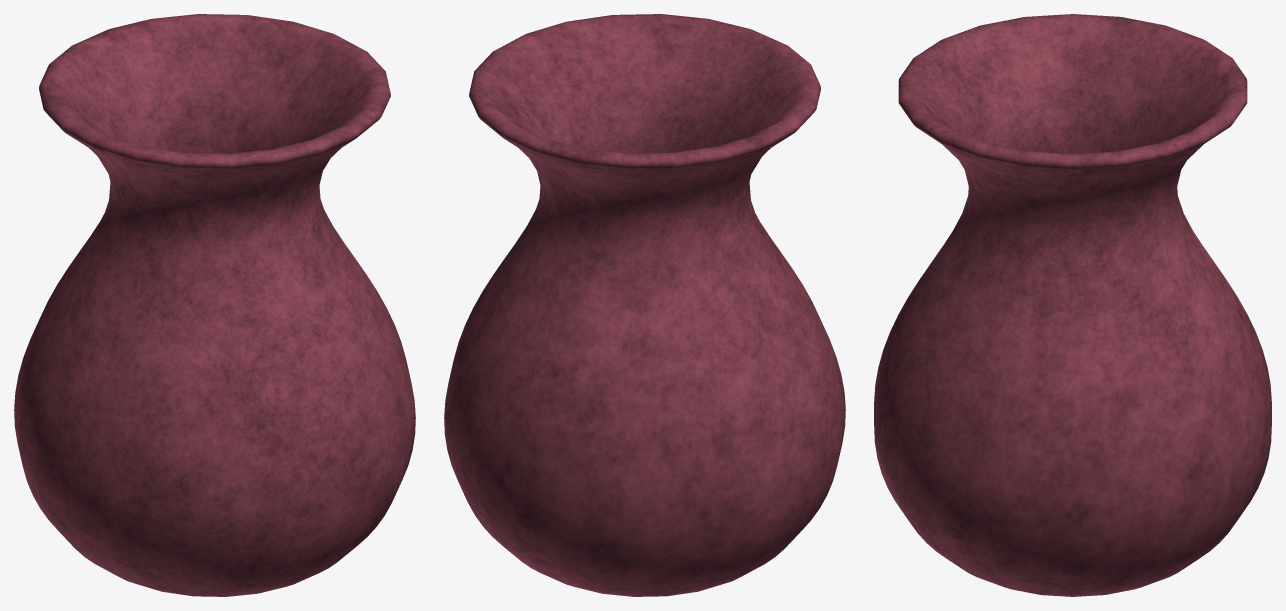
Rendered from Vase-1-red.glb.
3 renders of one model, left to right at view 1: azimuth 30°, elevation 25°; view 2: azimuth 150°, elevation 25°; view 3: azimuth 270°, elevation 25°, orthographic.
Parts seen in each view (by area): view 1: Vase_1.002; view 2: Vase_1.002; view 3: Vase_1.002.
Boxes of the visible parts, x1,y1,x2,y2 form: Vase_1.002: [14, 14, 415, 596]; Vase_1.002: [444, 14, 845, 596]; Vase_1.002: [874, 14, 1271, 596].
Bounding box in the file's own units: 0.6878 × 0.8905 × 0.6808.
Materials: 1 (1 with a texture image).
